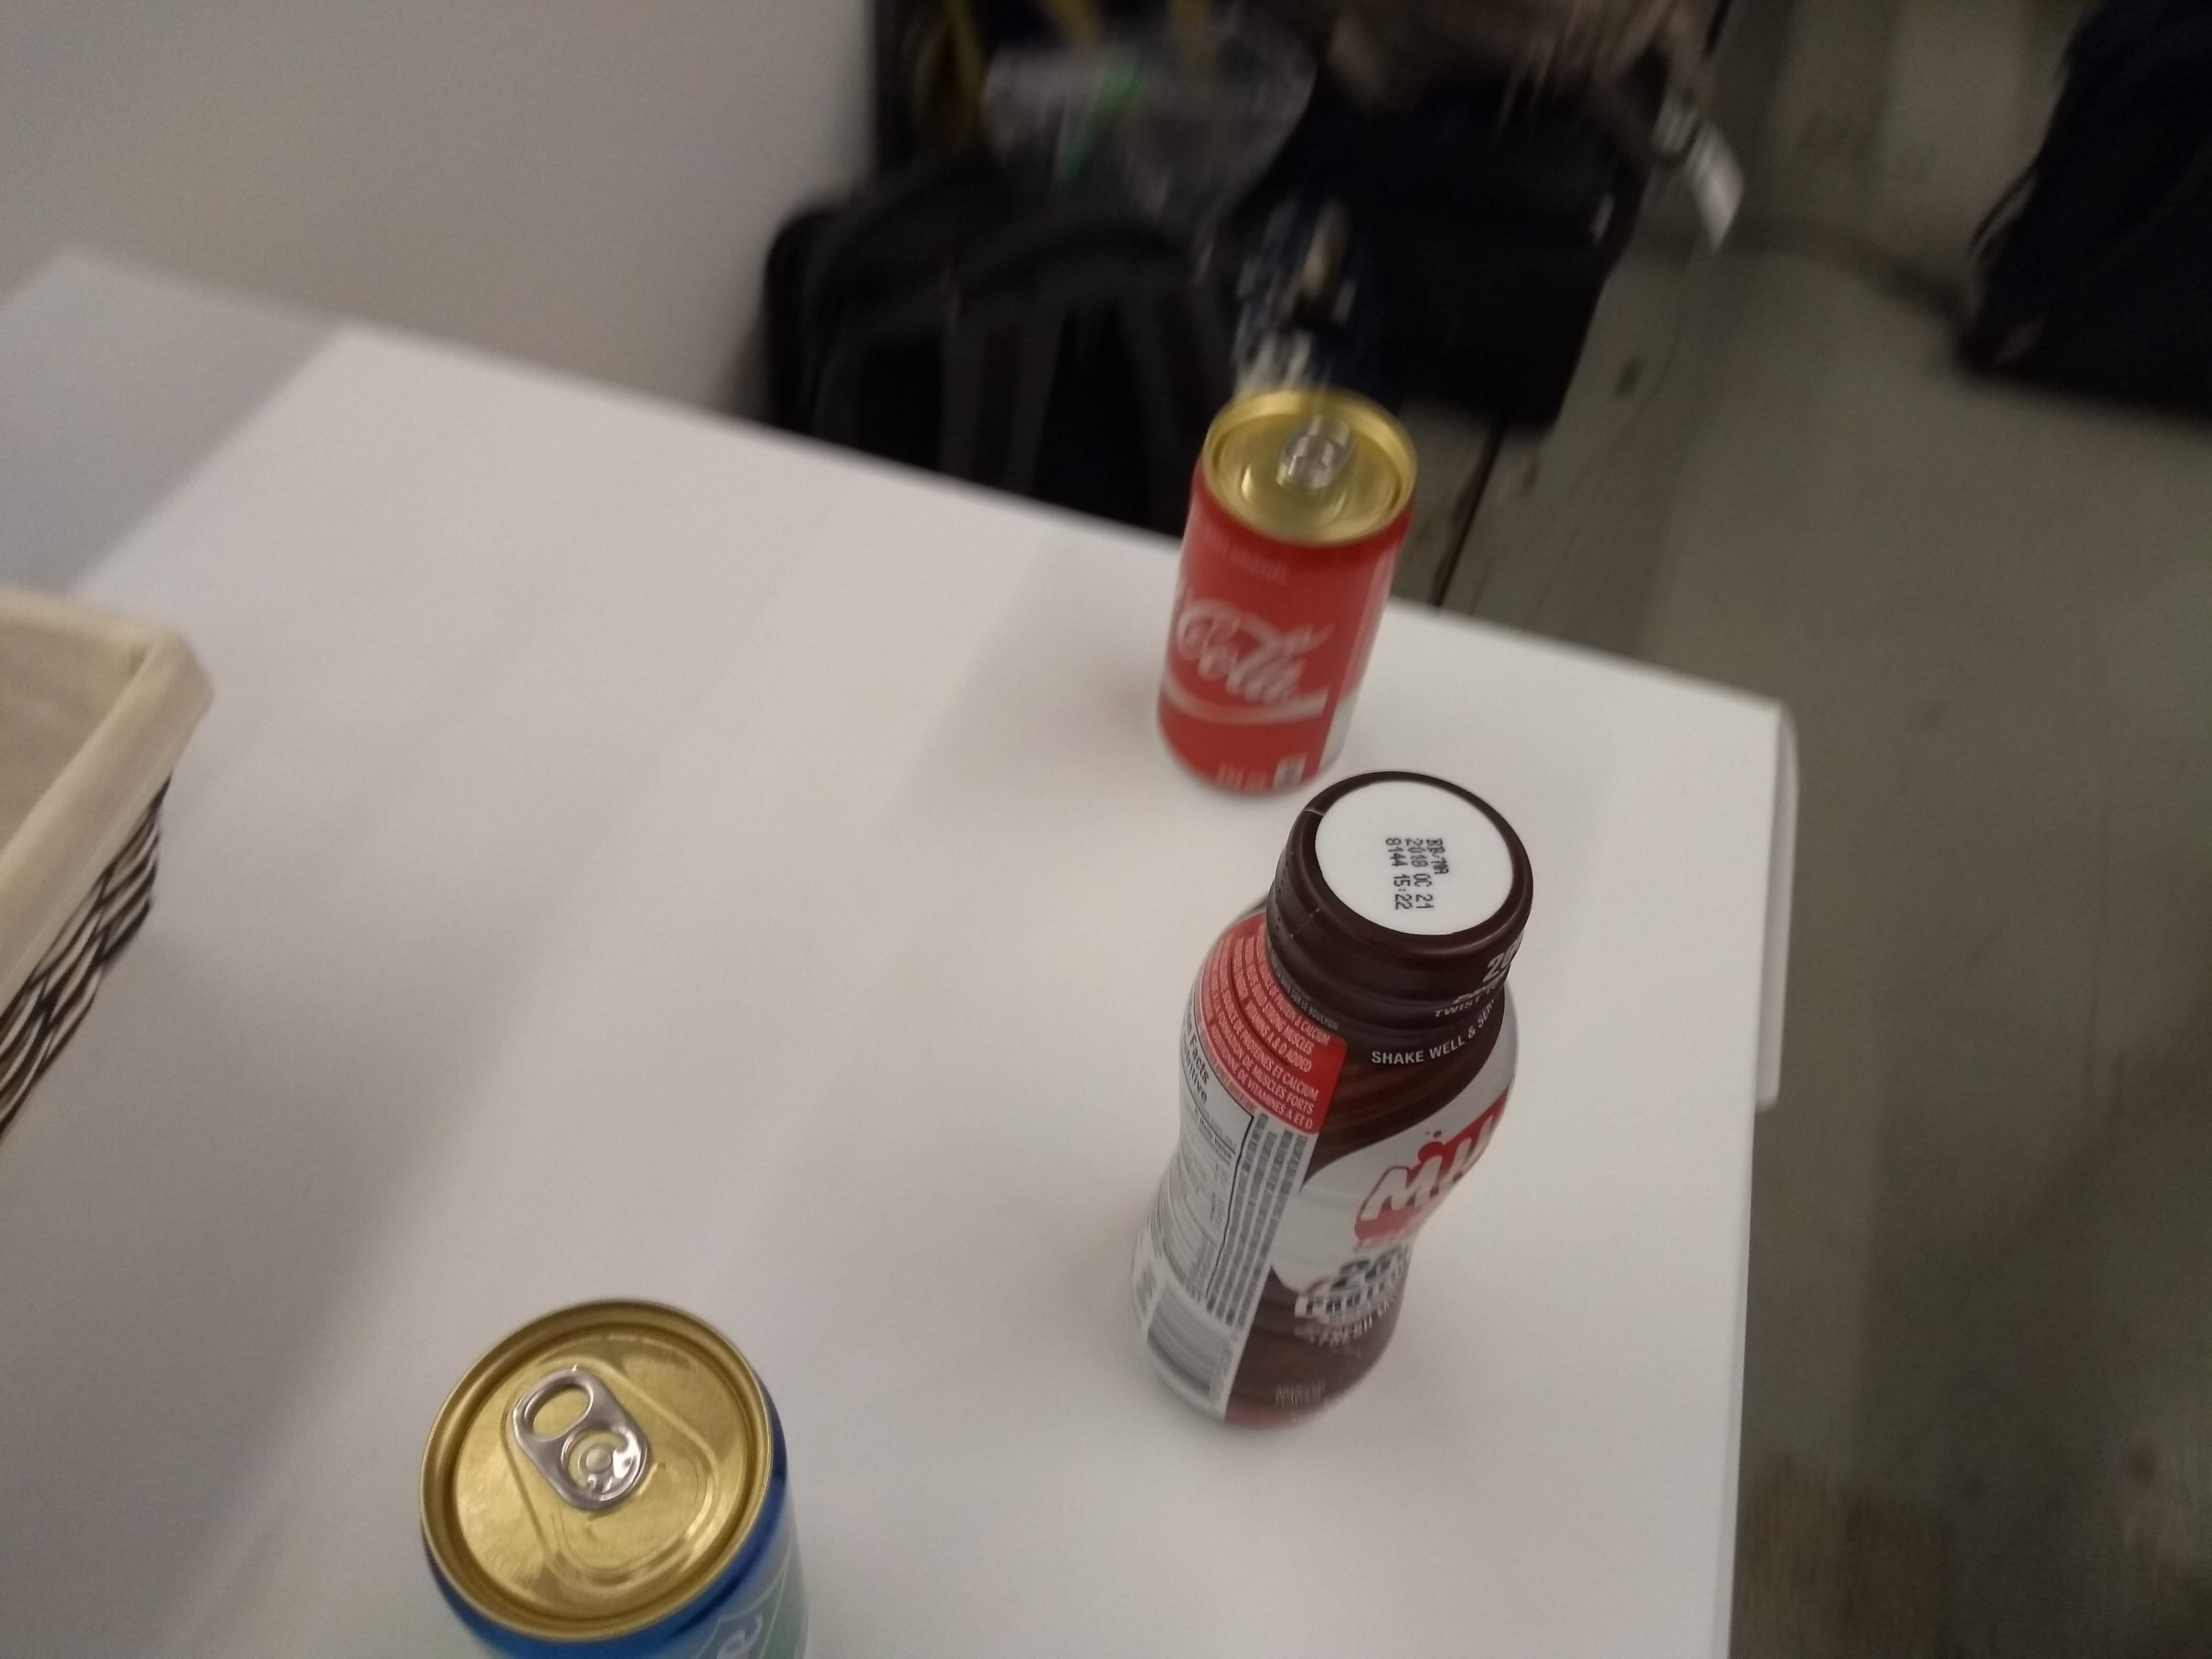chocolate_drink: (1104, 756, 1564, 1438)
coke: (1143, 369, 1428, 807)
